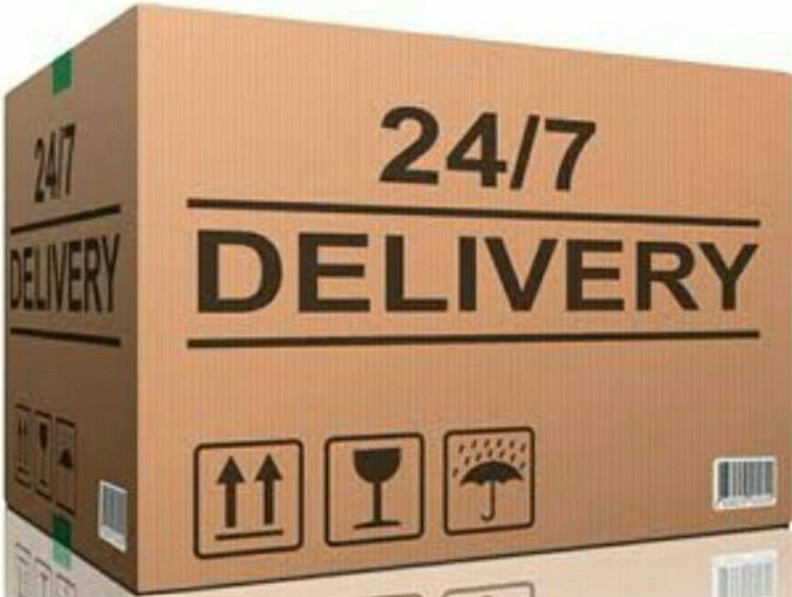stock: (5, 5, 791, 597)
